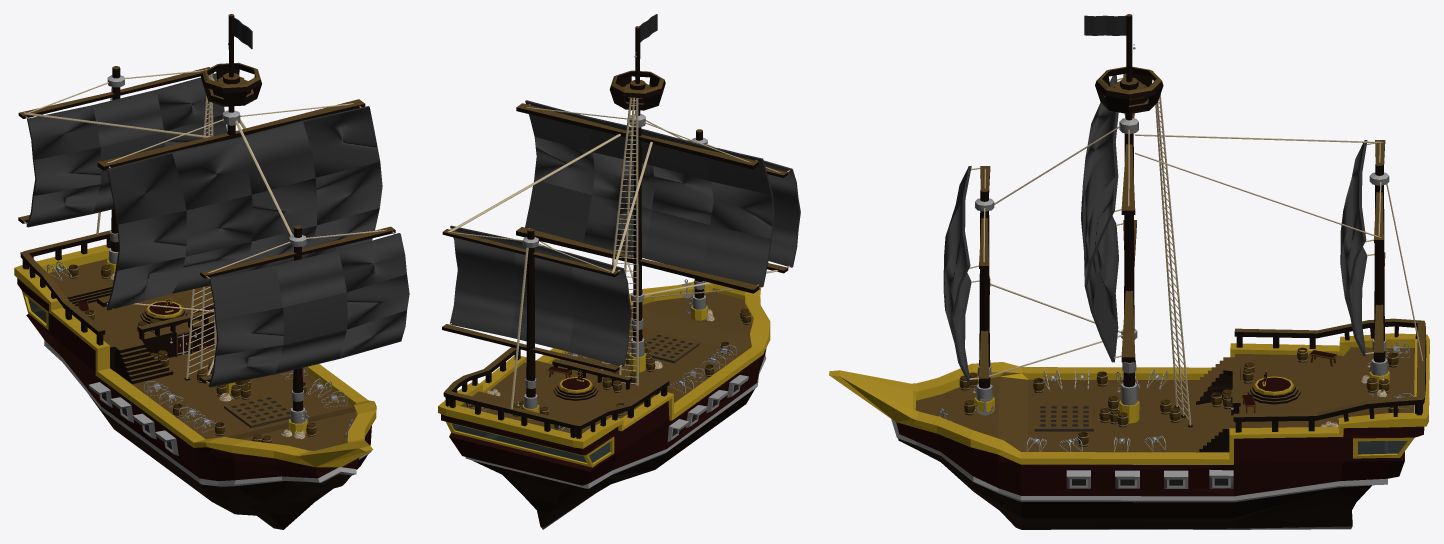
File: manowar.glb
The picture shows the model from 3 angles, left to right: view 1: azimuth 30°, elevation 25°; view 2: azimuth 150°, elevation 25°; view 3: azimuth 270°, elevation 25°; orthographic projection. The views are drawn at different scales.
Visible parts, largest first — view 1: hull, sail_1, sail_0, sail_2; view 2: hull, sail_1, sail_2, sail_0; view 3: hull, sail_1, sail_0, sail_2.
Part boxes in pixels (bbox=[...]): hull: bbox=[14, 14, 395, 529]; sail_1: bbox=[106, 106, 382, 310]; sail_0: bbox=[208, 233, 409, 387]; sail_2: bbox=[26, 73, 227, 227]; hull: bbox=[438, 14, 789, 529]; sail_1: bbox=[525, 100, 774, 287]; sail_2: bbox=[450, 225, 631, 366]; sail_0: bbox=[690, 141, 800, 267]; hull: bbox=[829, 14, 1429, 529]; sail_1: bbox=[1081, 75, 1118, 362]; sail_0: bbox=[943, 166, 971, 381]; sail_2: bbox=[1340, 140, 1367, 355].
Size of the model in its own units: 9.37 by 16.33 by 17.29.
Materials: 3 (3 with a texture image).
